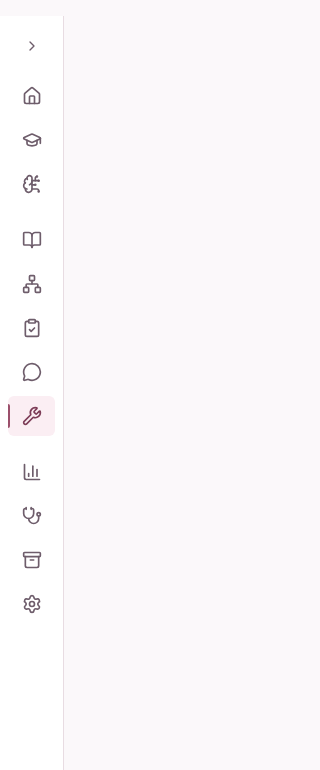
Scenario: LearningRail navigation › expands by keyboard-accessible control and presents the three learning stages
The width and height of the screenshot is (320, 770).
Click the button named "展开导航".
click(32, 46)  # box [12,28,52,64]
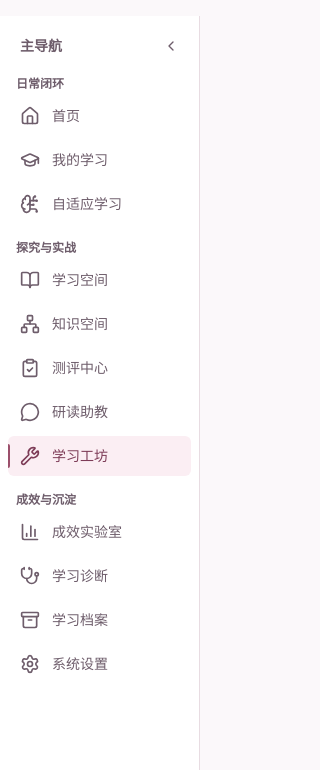
Check: the button with aria-label "收起导航" is expanded, box [8,28,191,64]
Check: the heading "日常闭环" is shown, box [16,76,64,91]
Check: the heading "探究与实战" is shown, box [16,240,76,255]
